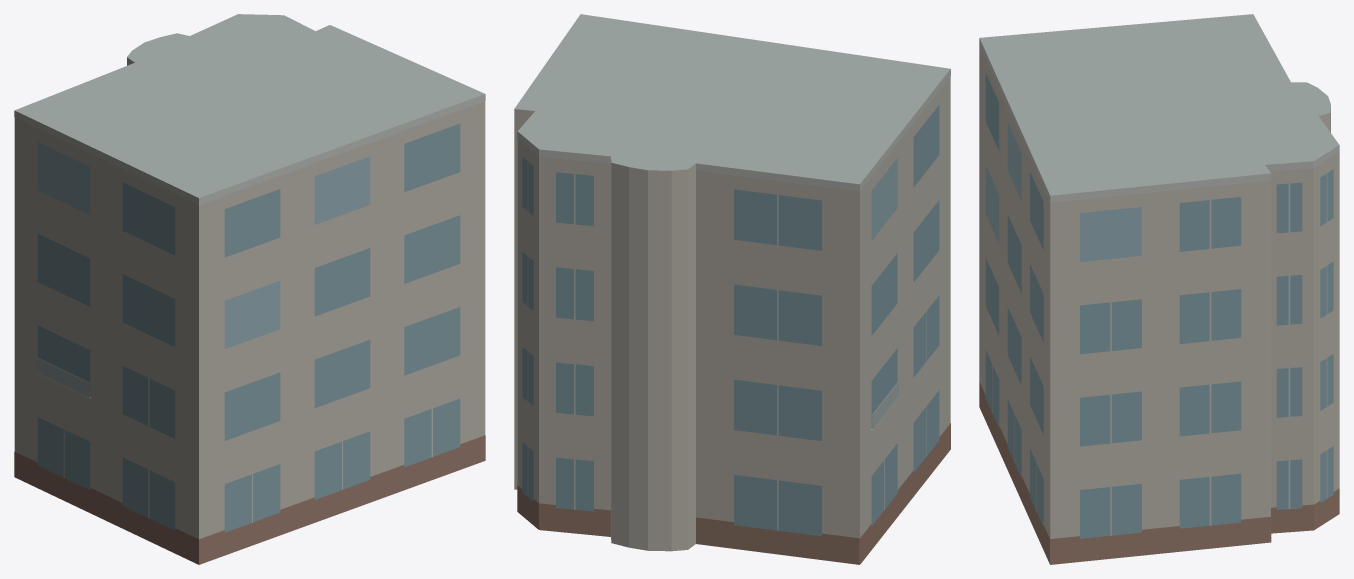
The model's file is survey-upis-32525689.glb.
3 renders of one model, left to right at view 1: azimuth 30°, elevation 25°; view 2: azimuth 150°, elevation 25°; view 3: azimuth 270°, elevation 25°, orthographic. The views are drawn at different scales.
Parts seen in each view (by area): view 1: survey-upis-32525689.tmp; view 2: survey-upis-32525689.tmp; view 3: survey-upis-32525689.tmp.
Boxes of the visible parts, box(x1,y1,x2,y2) form: survey-upis-32525689.tmp: box(14, 14, 485, 564); survey-upis-32525689.tmp: box(514, 14, 950, 564); survey-upis-32525689.tmp: box(979, 14, 1339, 564).
Bounding box in the file's own units: 13.53 × 12.8 × 11.33.
